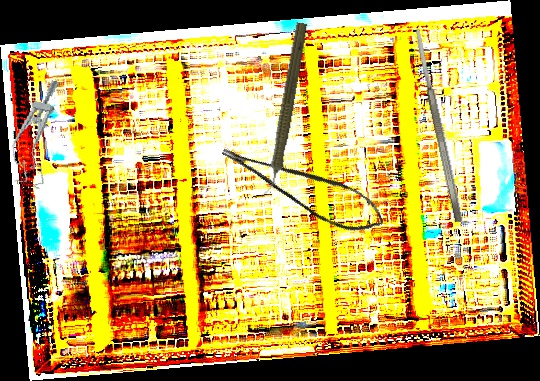Handpiece: (258, 20, 311, 200)
Micro Scissor: (218, 119, 391, 249)
Spatula Surgical: (412, 28, 465, 223)
Speculum: (4, 75, 67, 190)
